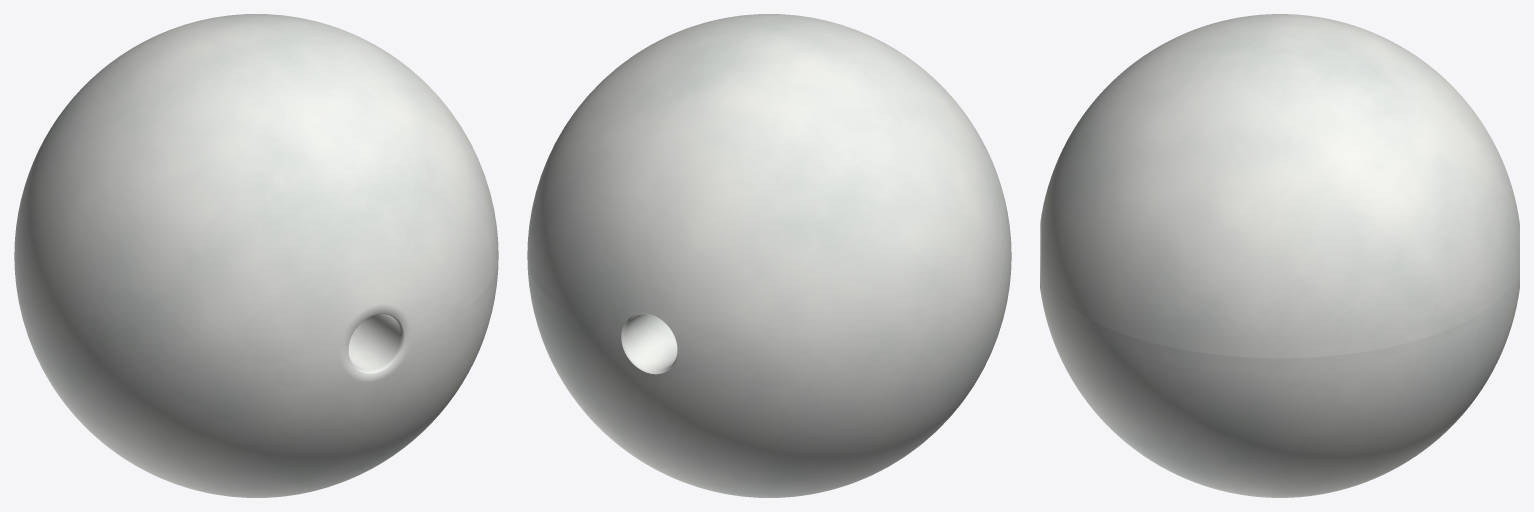
The model's file is milky-quartz.glb.
The picture shows the model from 3 angles, left to right: view 1: azimuth 30°, elevation 25°; view 2: azimuth 150°, elevation 25°; view 3: azimuth 270°, elevation 25°; orthographic projection.
Parts seen in each view (by area): view 1: milky-quartz.001; view 2: milky-quartz.001; view 3: milky-quartz.001.
Part boxes in pixels (x1,y1,x2,y2): milky-quartz.001: (14,14,498,497); milky-quartz.001: (527,14,1011,497); milky-quartz.001: (1040,14,1519,497).
Size of the model in its own units: 0.008 by 0.008 by 0.00793.
Materials: 2 (1 with a texture image).
